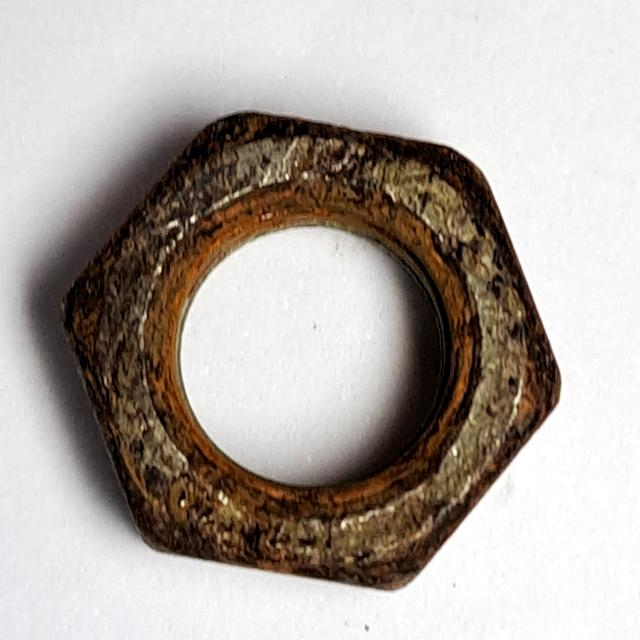Rust: (44, 85, 572, 603)
